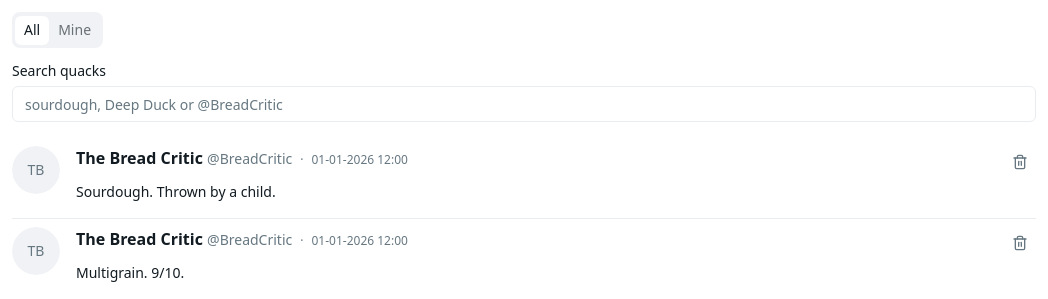
QuackFeed › searches once typing stops, not for every letter
The width and height of the screenshot is (1048, 299).
Expected: the text "Multigrain. 9/10." is shown, [76,263,184,282]
Type "sourdough" into the search field labelled "Search quacks" at [524, 104], box [12,86,1036,122]
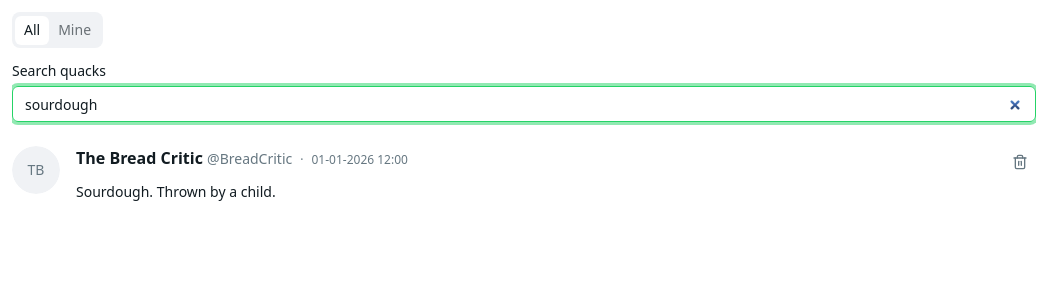
Expected: the text "Sourdough. Thrown by a child." is shown, [76,182,276,201]
Expected: the text "Multigrain. 9/10." is gone
